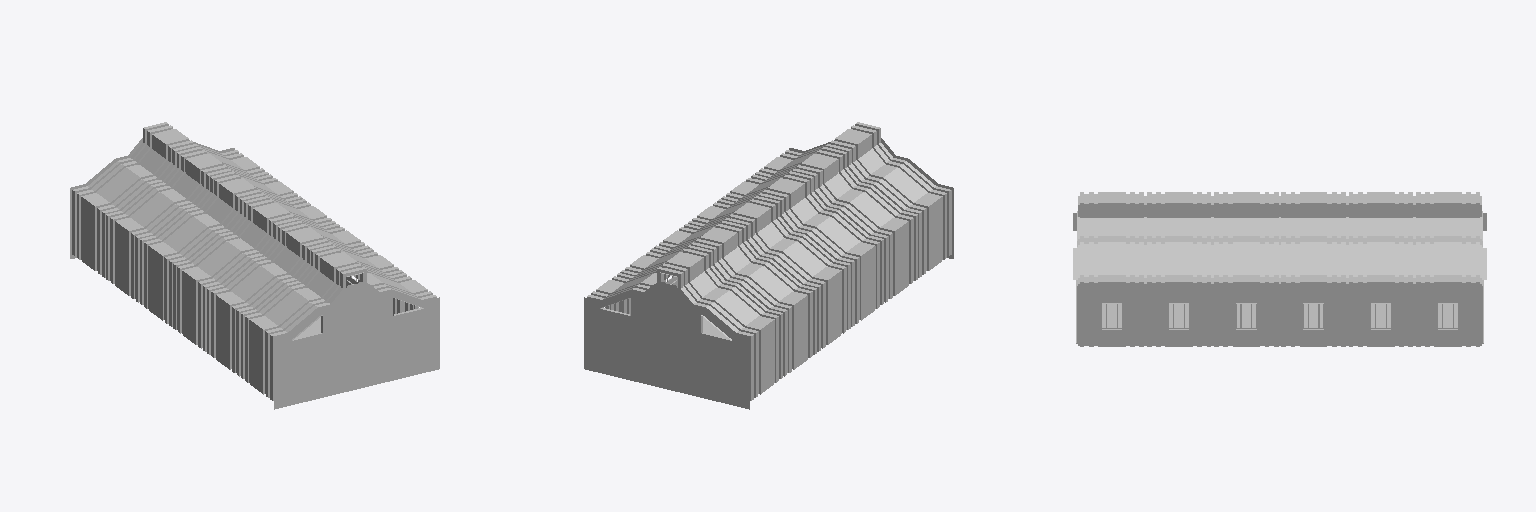
The model's file is building.obj.
The picture shows the model from 3 angles: view 1: azimuth 30°, elevation 25°; view 2: azimuth 150°, elevation 25°; view 3: azimuth 270°, elevation 25°; orthographic projection.
Visible parts, largest first — view 1: group_1_ID13, group_9_ID105; view 2: group_1_ID13, group_10_ID112; view 3: group_1_ID13, group_2_ID20.
Boxes of the visible parts, x1=… form: group_1_ID13: x1=72, y1=122, x2=436, y2=400; group_9_ID105: x1=274, y1=282, x2=439, y2=409; group_1_ID13: x1=587, y1=122, x2=951, y2=400; group_10_ID112: x1=584, y1=282, x2=749, y2=409; group_1_ID13: x1=1078, y1=192, x2=1481, y2=346; group_2_ID20: x1=1076, y1=280, x2=1483, y2=340.
Size of the model in its own units: 8.64 by 5.71 by 18.41.